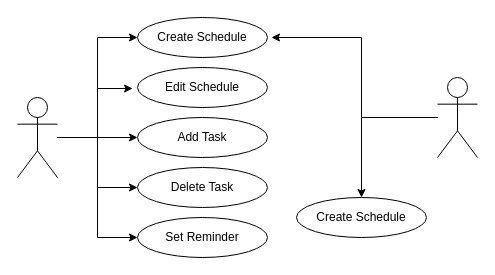
Image size: 495x275. Some labels were removed from this diagram. Here are the shapes that lost their labels. From the top down, the centre of each, then its label:
(37,137): User
(457,117): System
